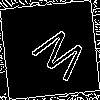W: (25, 25, 90, 89)
